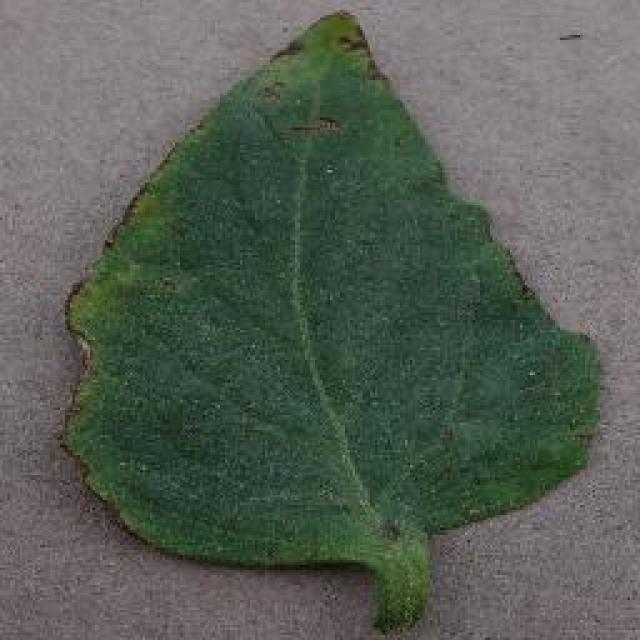Tomato___Bacterial_spot: (58, 8, 600, 638)
